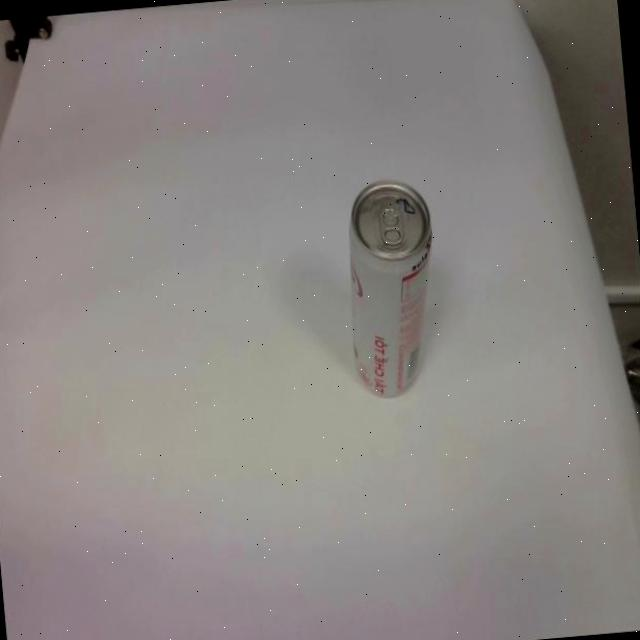debris: (336, 173, 446, 401)
